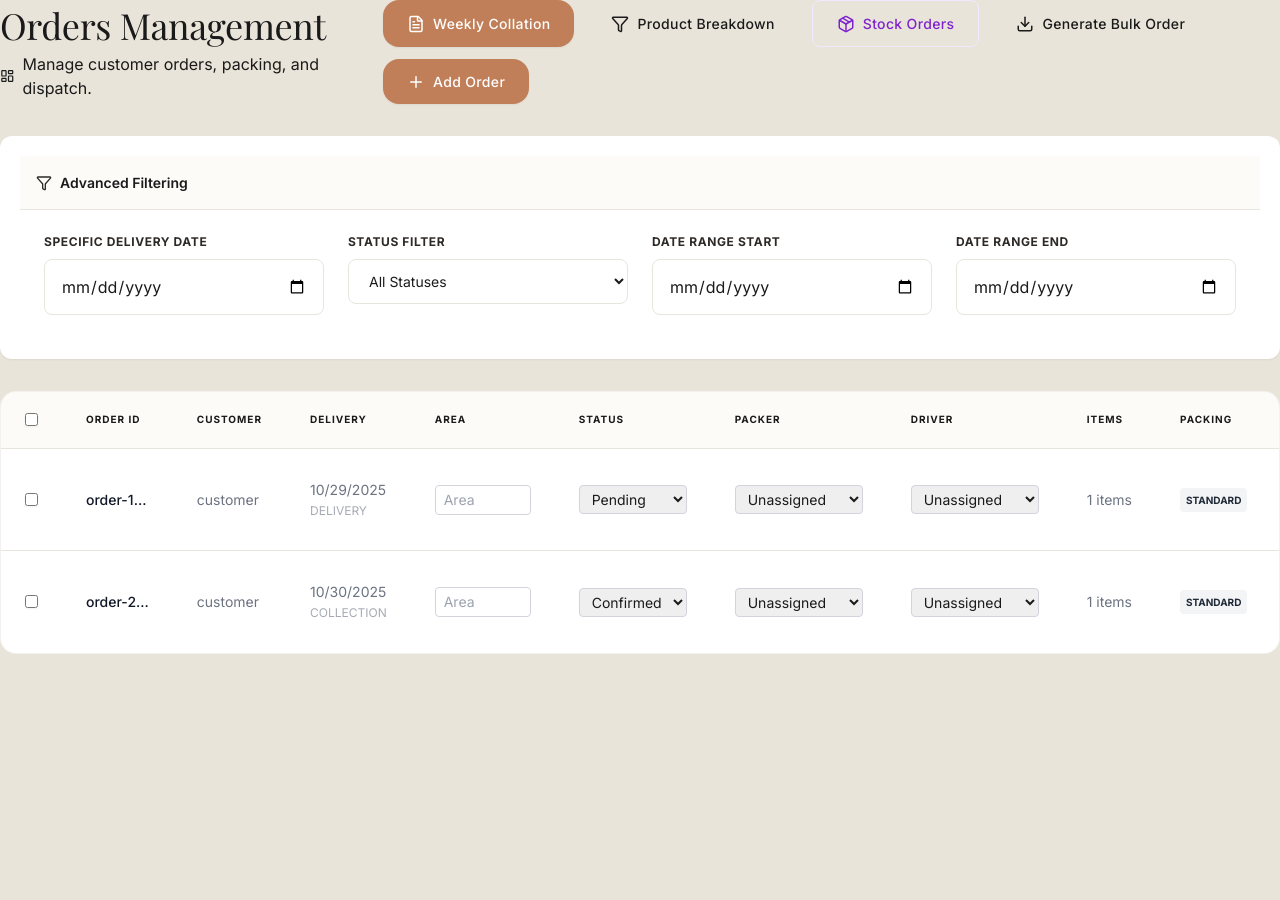
Test: OrdersManagement › opens bulk order modal
What coordinates should you click on to do the following:
click the button "Generate Bulk Order"
I would click on:
 (1101, 24)
Its box is [991,0,1210,47].
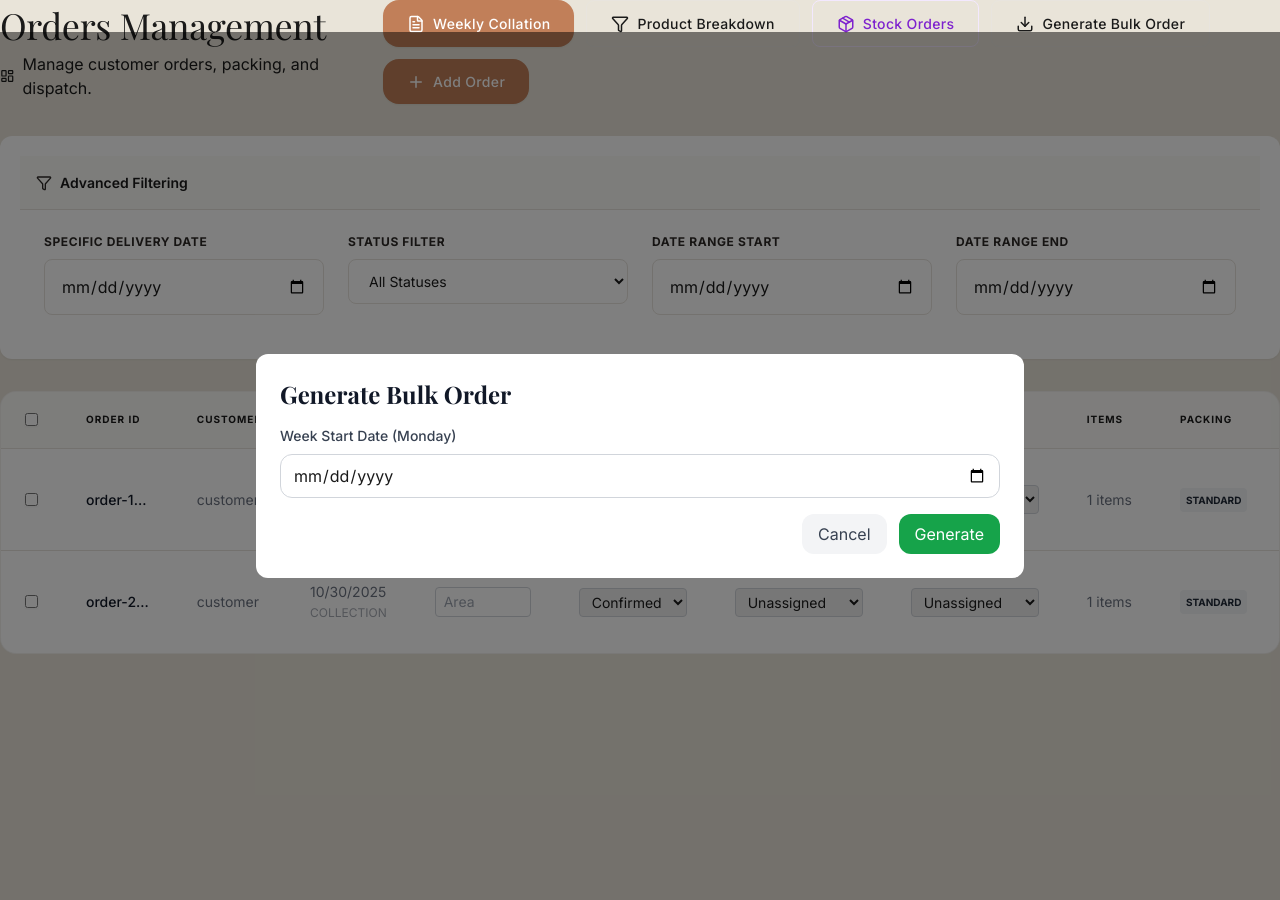
expect the heading "Generate Bulk Order" is shown: met, box [280,378,511,410]
